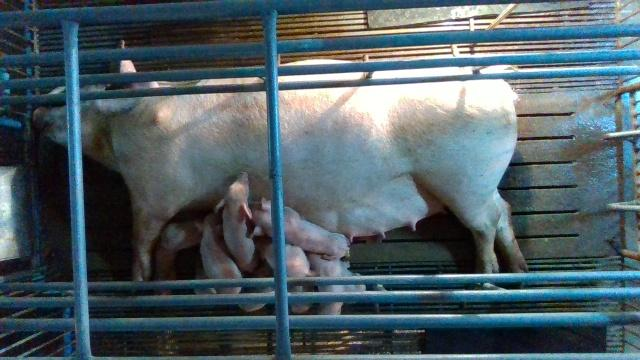piglet: (243, 199, 350, 261), (212, 165, 266, 278), (307, 253, 382, 314), (198, 207, 245, 301), (264, 241, 318, 313)
sow-sleep-lactate: (33, 39, 530, 302)
